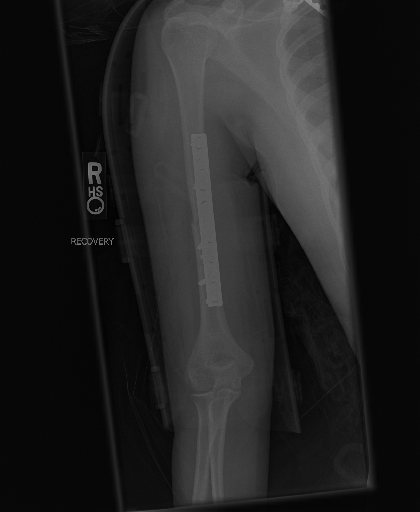implant: (185, 128, 230, 316)
